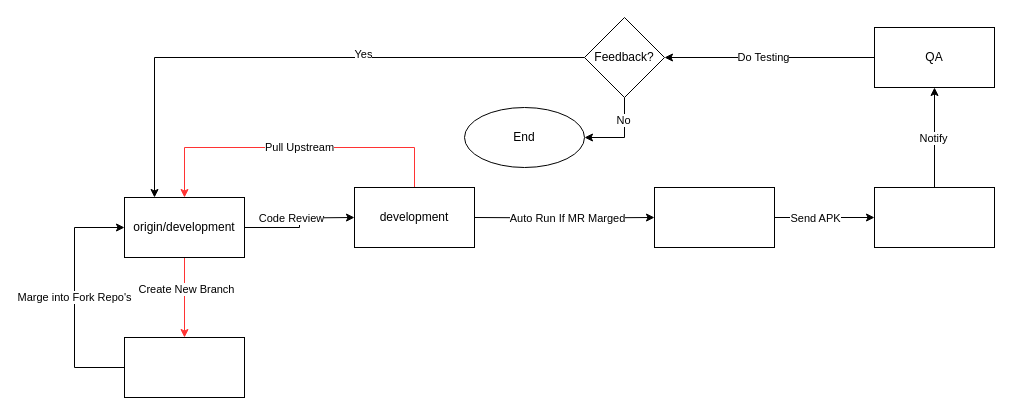
The diagram is 1012 pixels wide and 415 high, and some of its shapes have lost their labels. Here are the shapes that lost their labels. From the top down, the box of each, then its label:
(654, 186, 774, 248): CI/CD
(874, 186, 994, 248): Telegram
(124, 336, 244, 398): feature-login
